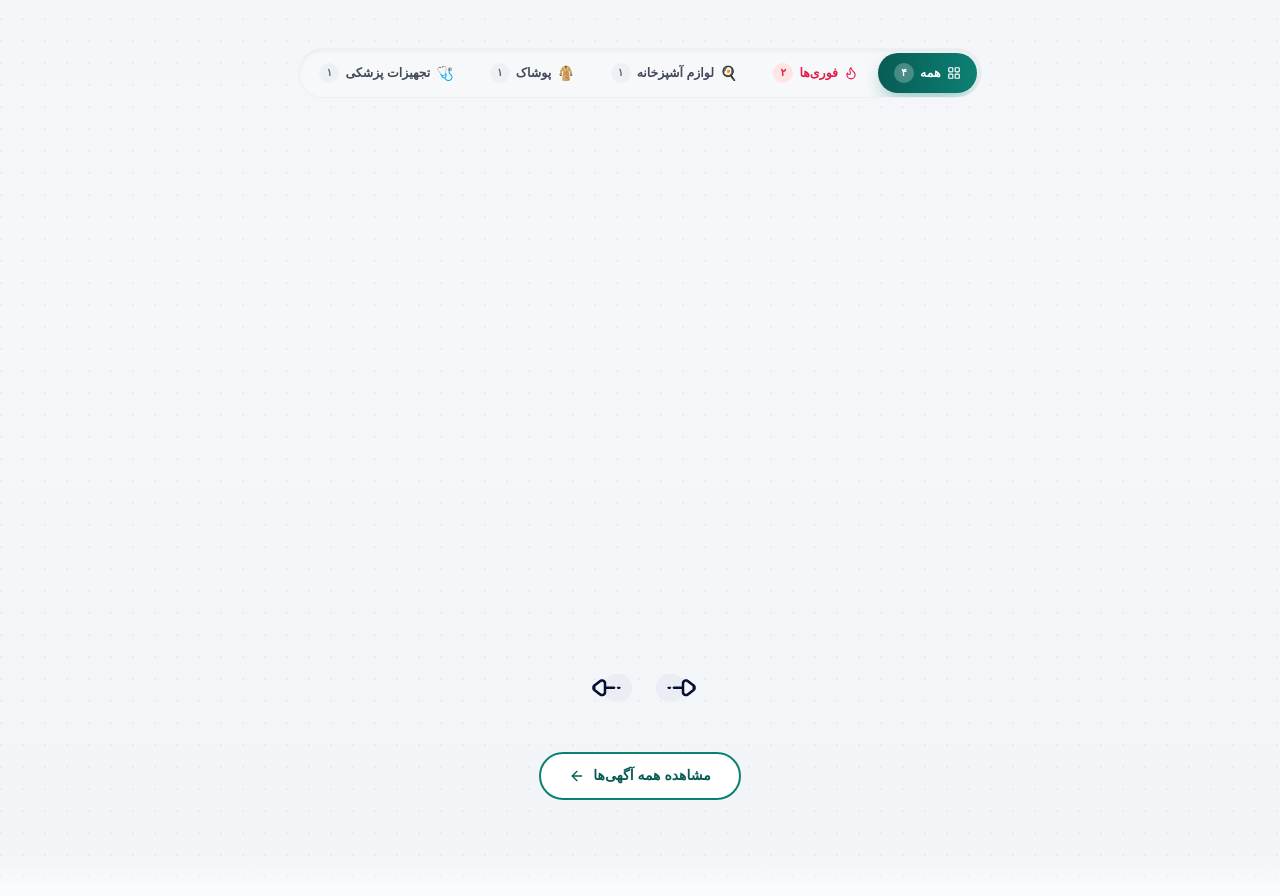
Test: KindnessSection — تختهٔ نیاز v2 › پیجر با آرایهٔ ۴تایی دو صفحه می‌سازد و چرخه می‌کند
(page scrolled)
Click the button named "بعدی".
click(608, 688)  # box [584,664,632,712]
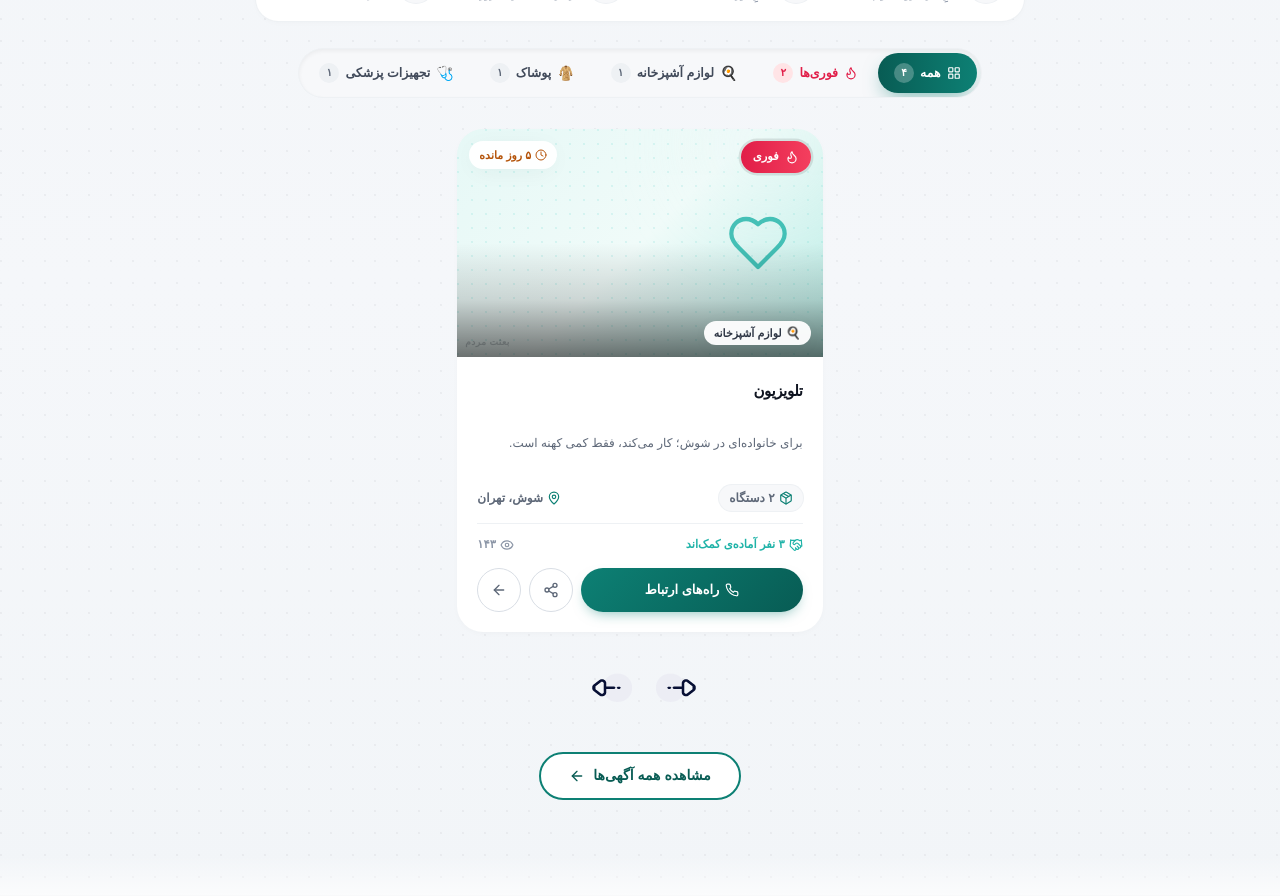
expect the link "تلویزیون" is shown: met, box [753,382,803,399]
